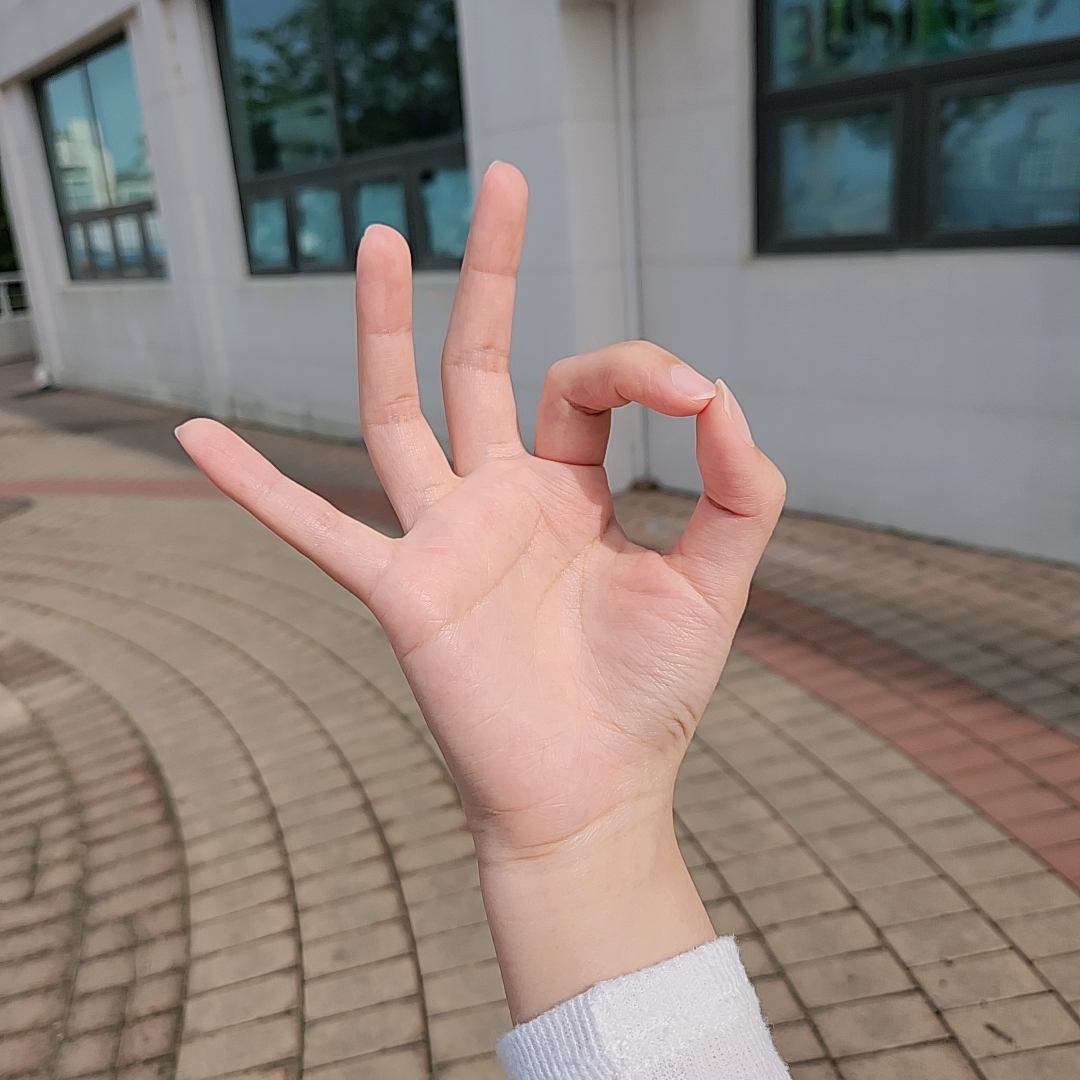see: (177, 160, 788, 789)
